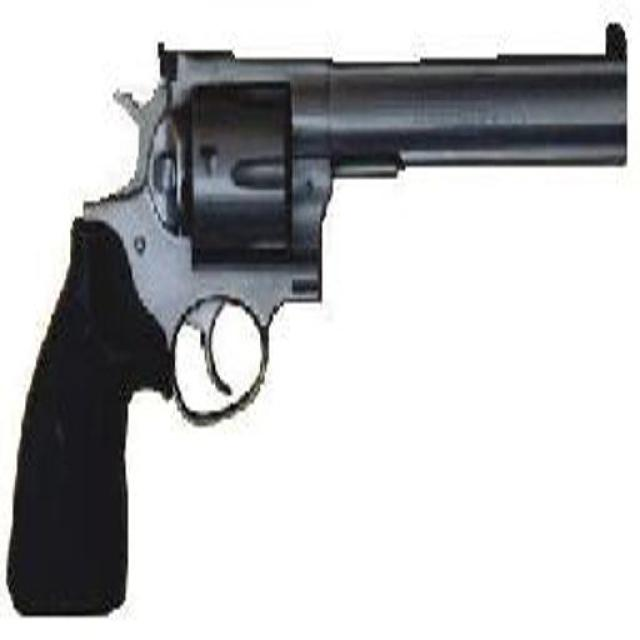pistol: (6, 18, 626, 616)
